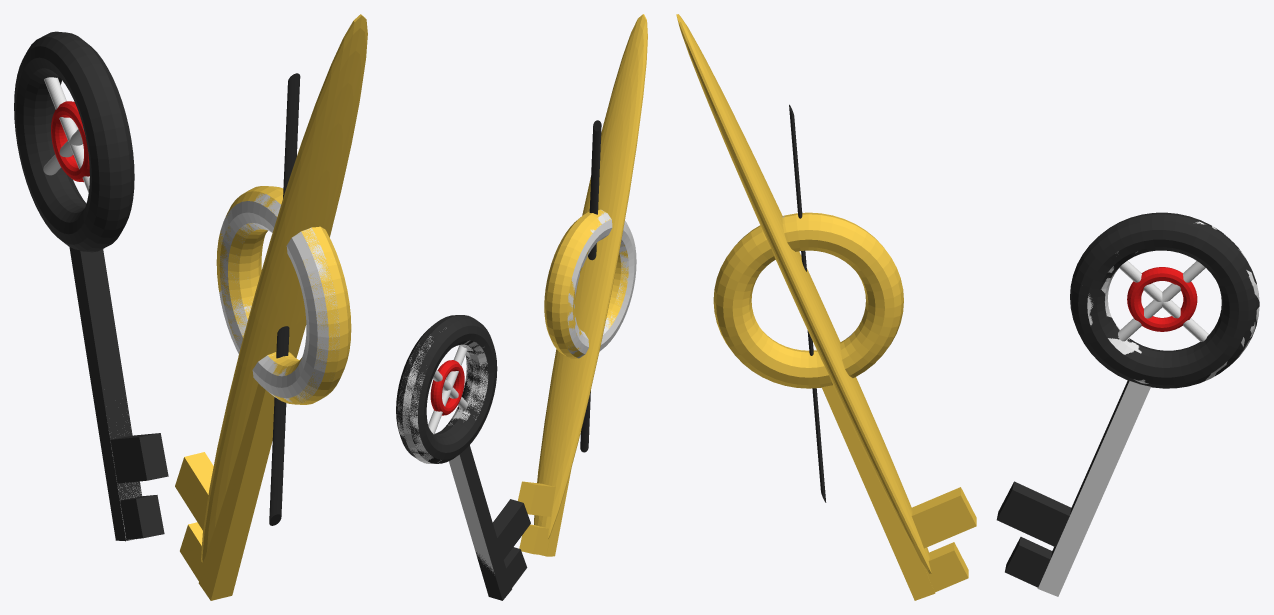
The model's file is keys.fbx.
The picture shows the model from 3 angles, left to right: view 1: azimuth 30°, elevation 25°; view 2: azimuth 150°, elevation 25°; view 3: azimuth 270°, elevation 25°; orthographic projection. The views are drawn at different scales.
Parts seen in each view (by area): view 1: Cube.003, Sphere, Cube, Cube.004, Torus.002, Cube.002, Cylinder.001, Torus.006, Cube.001, Cylinder.002, Cylinder.003; view 2: Sphere, Cube.003, Cube.002, Cube.005, Cube.004, Torus.002, Torus.001, Cylinder.001, Torus.006, Cube.001, Cube, Cylinder.003; view 3: Torus.001, Sphere, Cube.002, Cube.001, Cube.005, Cube.003, Cube, Torus.006, Cube.004, Cylinder.001, Cylinder.003, Cylinder.002.
Boxes of the visible parts, bbox=[...] form: Cube.003: bbox=[14, 31, 168, 541]; Sphere: bbox=[201, 14, 367, 562]; Cube: bbox=[198, 223, 351, 600]; Cube.004: bbox=[22, 37, 164, 540]; Torus.002: bbox=[219, 193, 339, 402]; Cube.002: bbox=[175, 186, 326, 600]; Cylinder.001: bbox=[269, 73, 300, 525]; Torus.006: bbox=[51, 101, 89, 182]; Cube.001: bbox=[180, 512, 253, 580]; Cylinder.002: bbox=[44, 77, 89, 192]; Cylinder.003: bbox=[43, 126, 83, 175]; Sphere: bbox=[534, 14, 647, 538]; Cube.003: bbox=[410, 315, 530, 600]; Cube.002: bbox=[518, 209, 628, 516]; Cube.005: bbox=[397, 328, 494, 575]; Cube.004: bbox=[410, 326, 527, 600]; Torus.002: bbox=[567, 210, 636, 358]; Torus.001: bbox=[396, 319, 488, 457]; Cylinder.001: bbox=[580, 120, 601, 452]; Torus.006: bbox=[430, 360, 464, 415]; Cube.001: bbox=[519, 245, 624, 555]; Cube: bbox=[541, 211, 607, 556]; Cylinder.003: bbox=[428, 345, 467, 434]; Torus.001: bbox=[1078, 214, 1259, 388]; Sphere: bbox=[676, 14, 931, 573]; Cube.002: bbox=[729, 212, 976, 548]; Cube.001: bbox=[723, 223, 968, 600]; Cube.005: bbox=[1038, 221, 1259, 596]; Cube.003: bbox=[996, 212, 1238, 547]; Cube: bbox=[713, 215, 935, 592]; Torus.006: bbox=[1127, 267, 1197, 331]; Cube.004: bbox=[1005, 216, 1223, 587]; Cylinder.001: bbox=[789, 104, 826, 502]; Cylinder.003: bbox=[1119, 260, 1208, 341]; Cylinder.002: bbox=[1118, 261, 1205, 341].
Bounding box in the file's own units: 43.55 × 463 × 420.
